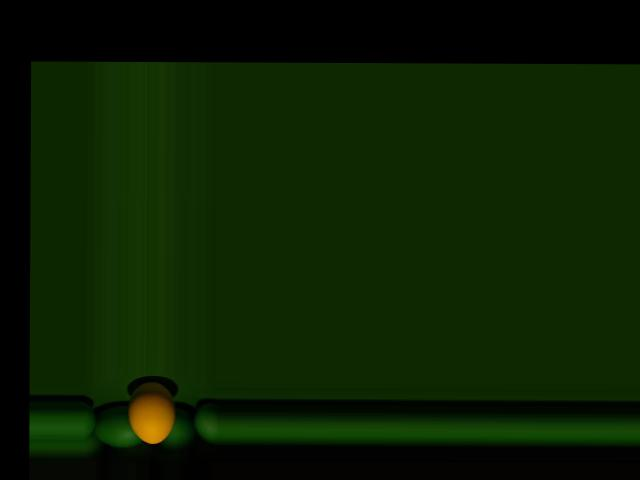egg: (127, 381, 175, 443)
